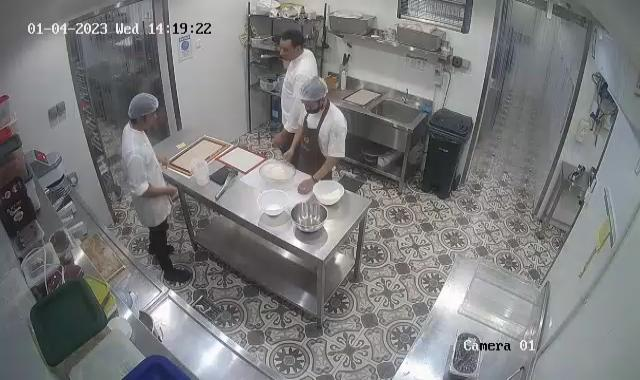hairnet: (300, 74, 330, 111), (125, 92, 159, 120)
no_hairnet: (277, 28, 303, 51)
